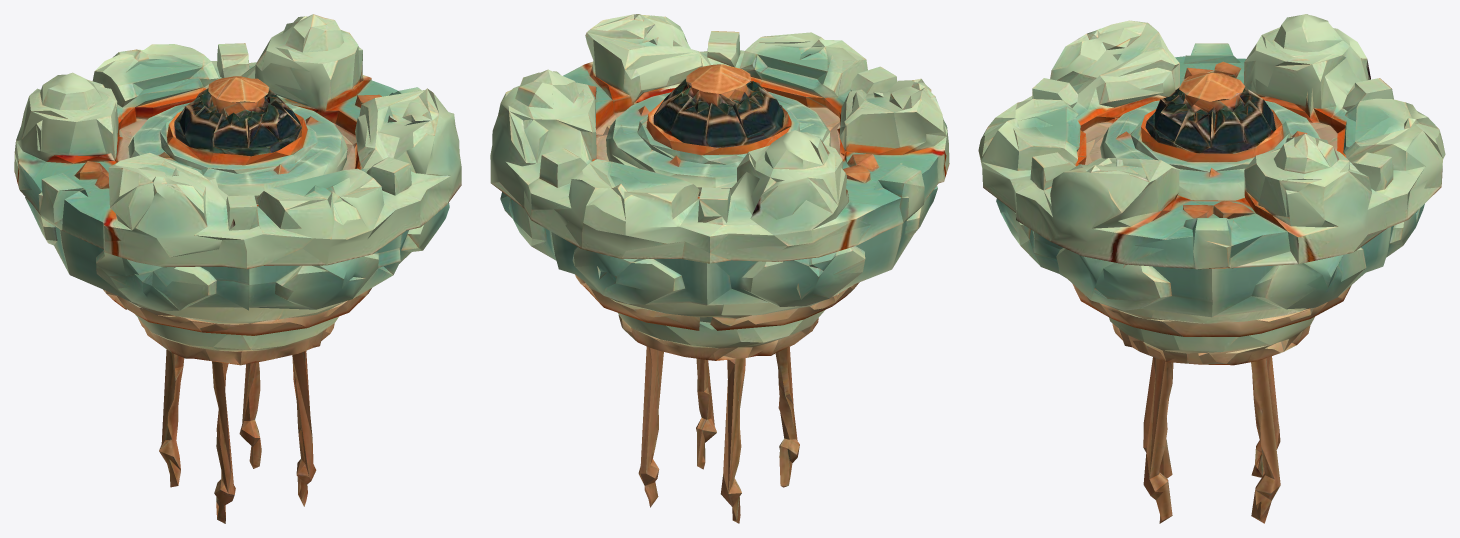
The model's file is nation-l-fortress.glb.
The picture shows the model from 3 angles, left to right: view 1: azimuth 30°, elevation 25°; view 2: azimuth 150°, elevation 25°; view 3: azimuth 270°, elevation 25°; orthographic projection. The views are drawn at different scales.
Bounding box in the file's own units: 1.79 × 1.88 × 1.85.
1 material, 1 textured.
